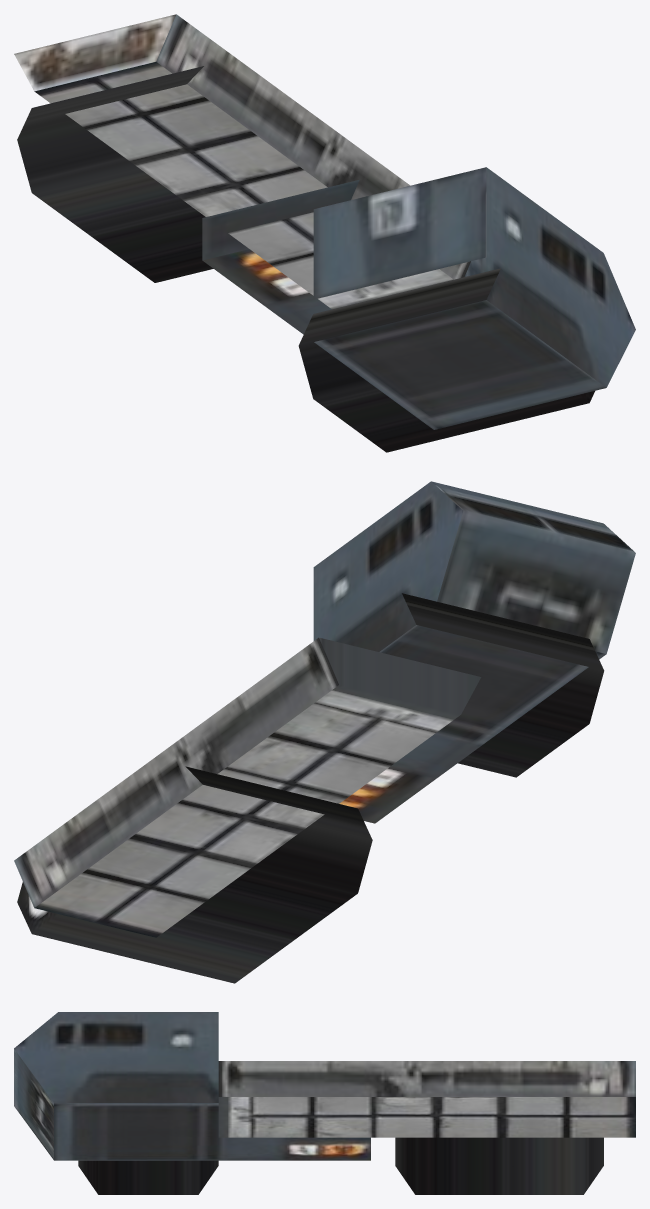
File: truckprop_hdtex.glb
3 views of the same model, one above another, from view 1: azimuth 30°, elevation 25°; view 2: azimuth 150°, elevation 25°; view 3: azimuth 270°, elevation 25° (orthographic). The views are drawn at different scales.
Visible parts, largest first — view 1: emptytruck; view 2: emptytruck; view 3: emptytruck.
Boxes of the visible parts, x1=… form: emptytruck: x1=14, y1=14, x2=635, y2=452; emptytruck: x1=14, y1=481, x2=635, y2=983; emptytruck: x1=14, y1=1012, x2=635, y2=1194.
Size of the model in its own units: 3 by 2.47 by 11.62.
1 material, 1 textured.
